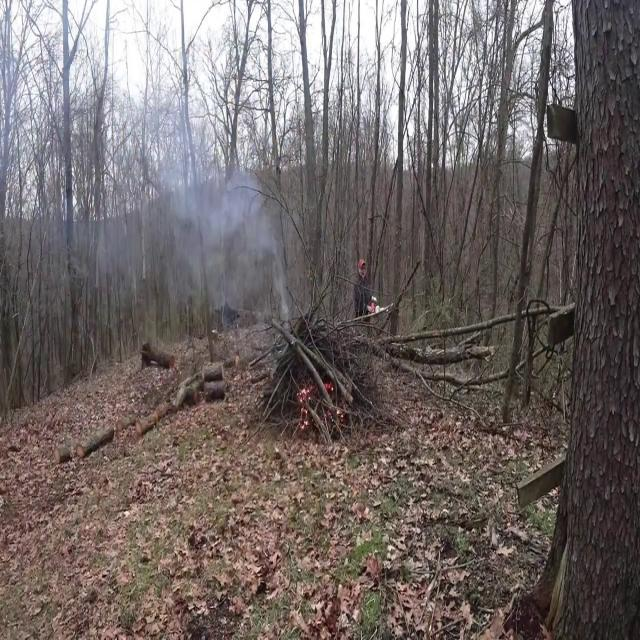Smoke: (165, 139, 291, 333)
